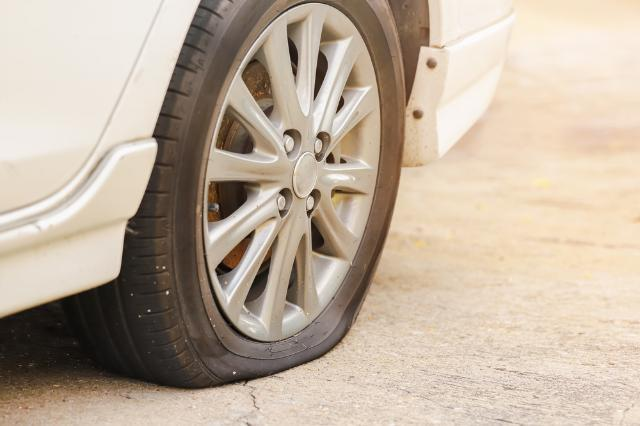tire flat: (73, 0, 405, 391)
